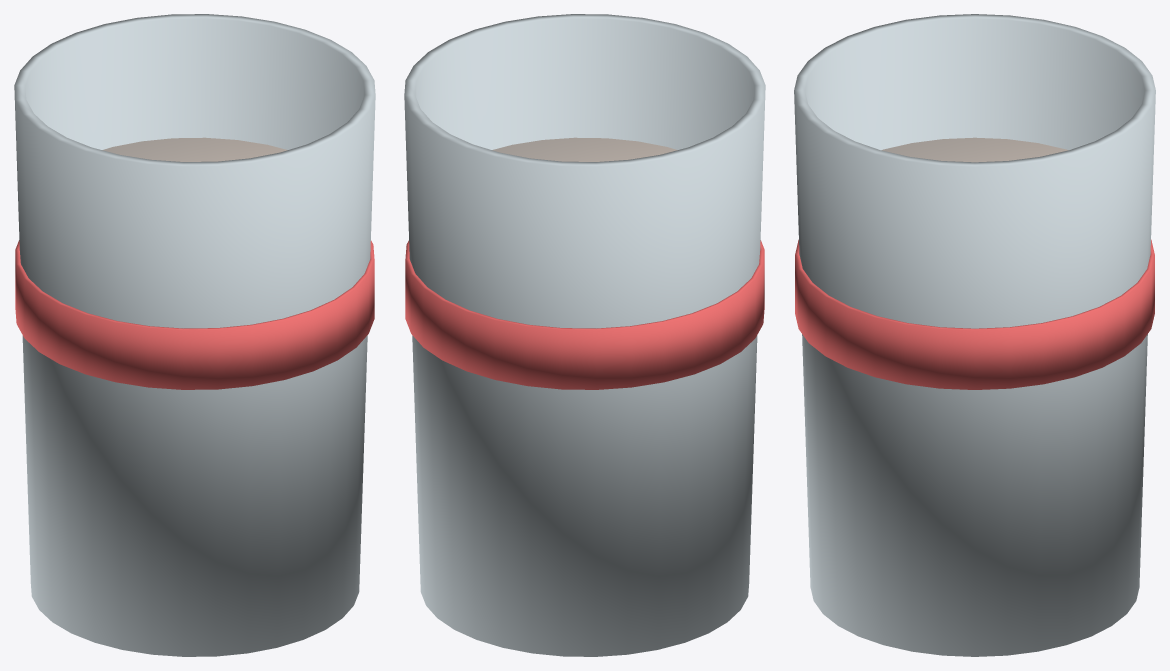
File: glass_hot.glb
The picture shows the model from 3 angles, left to right: view 1: azimuth 30°, elevation 25°; view 2: azimuth 150°, elevation 25°; view 3: azimuth 270°, elevation 25°; orthographic projection.
Parts seen in each view (by area): view 1: hot_glass, hot_band, water_body; view 2: hot_glass, hot_band, water_body; view 3: hot_glass, hot_band, water_body.
Part boxes in pixels (left/top/right/bottom): hot_glass: left=14, top=14, right=375, bottom=656; hot_band: left=15, top=240, right=374, bottom=389; water_body: left=102, top=137, right=287, bottom=161; hot_glass: left=404, top=14, right=765, bottom=656; hot_band: left=405, top=240, right=764, bottom=389; water_body: left=492, top=137, right=677, bottom=161; hot_glass: left=794, top=14, right=1155, bottom=656; hot_band: left=795, top=239, right=1154, bottom=389; water_body: left=882, top=137, right=1067, bottom=162.
Bounding box in the file's own units: 0.066 × 0.1 × 0.066.
